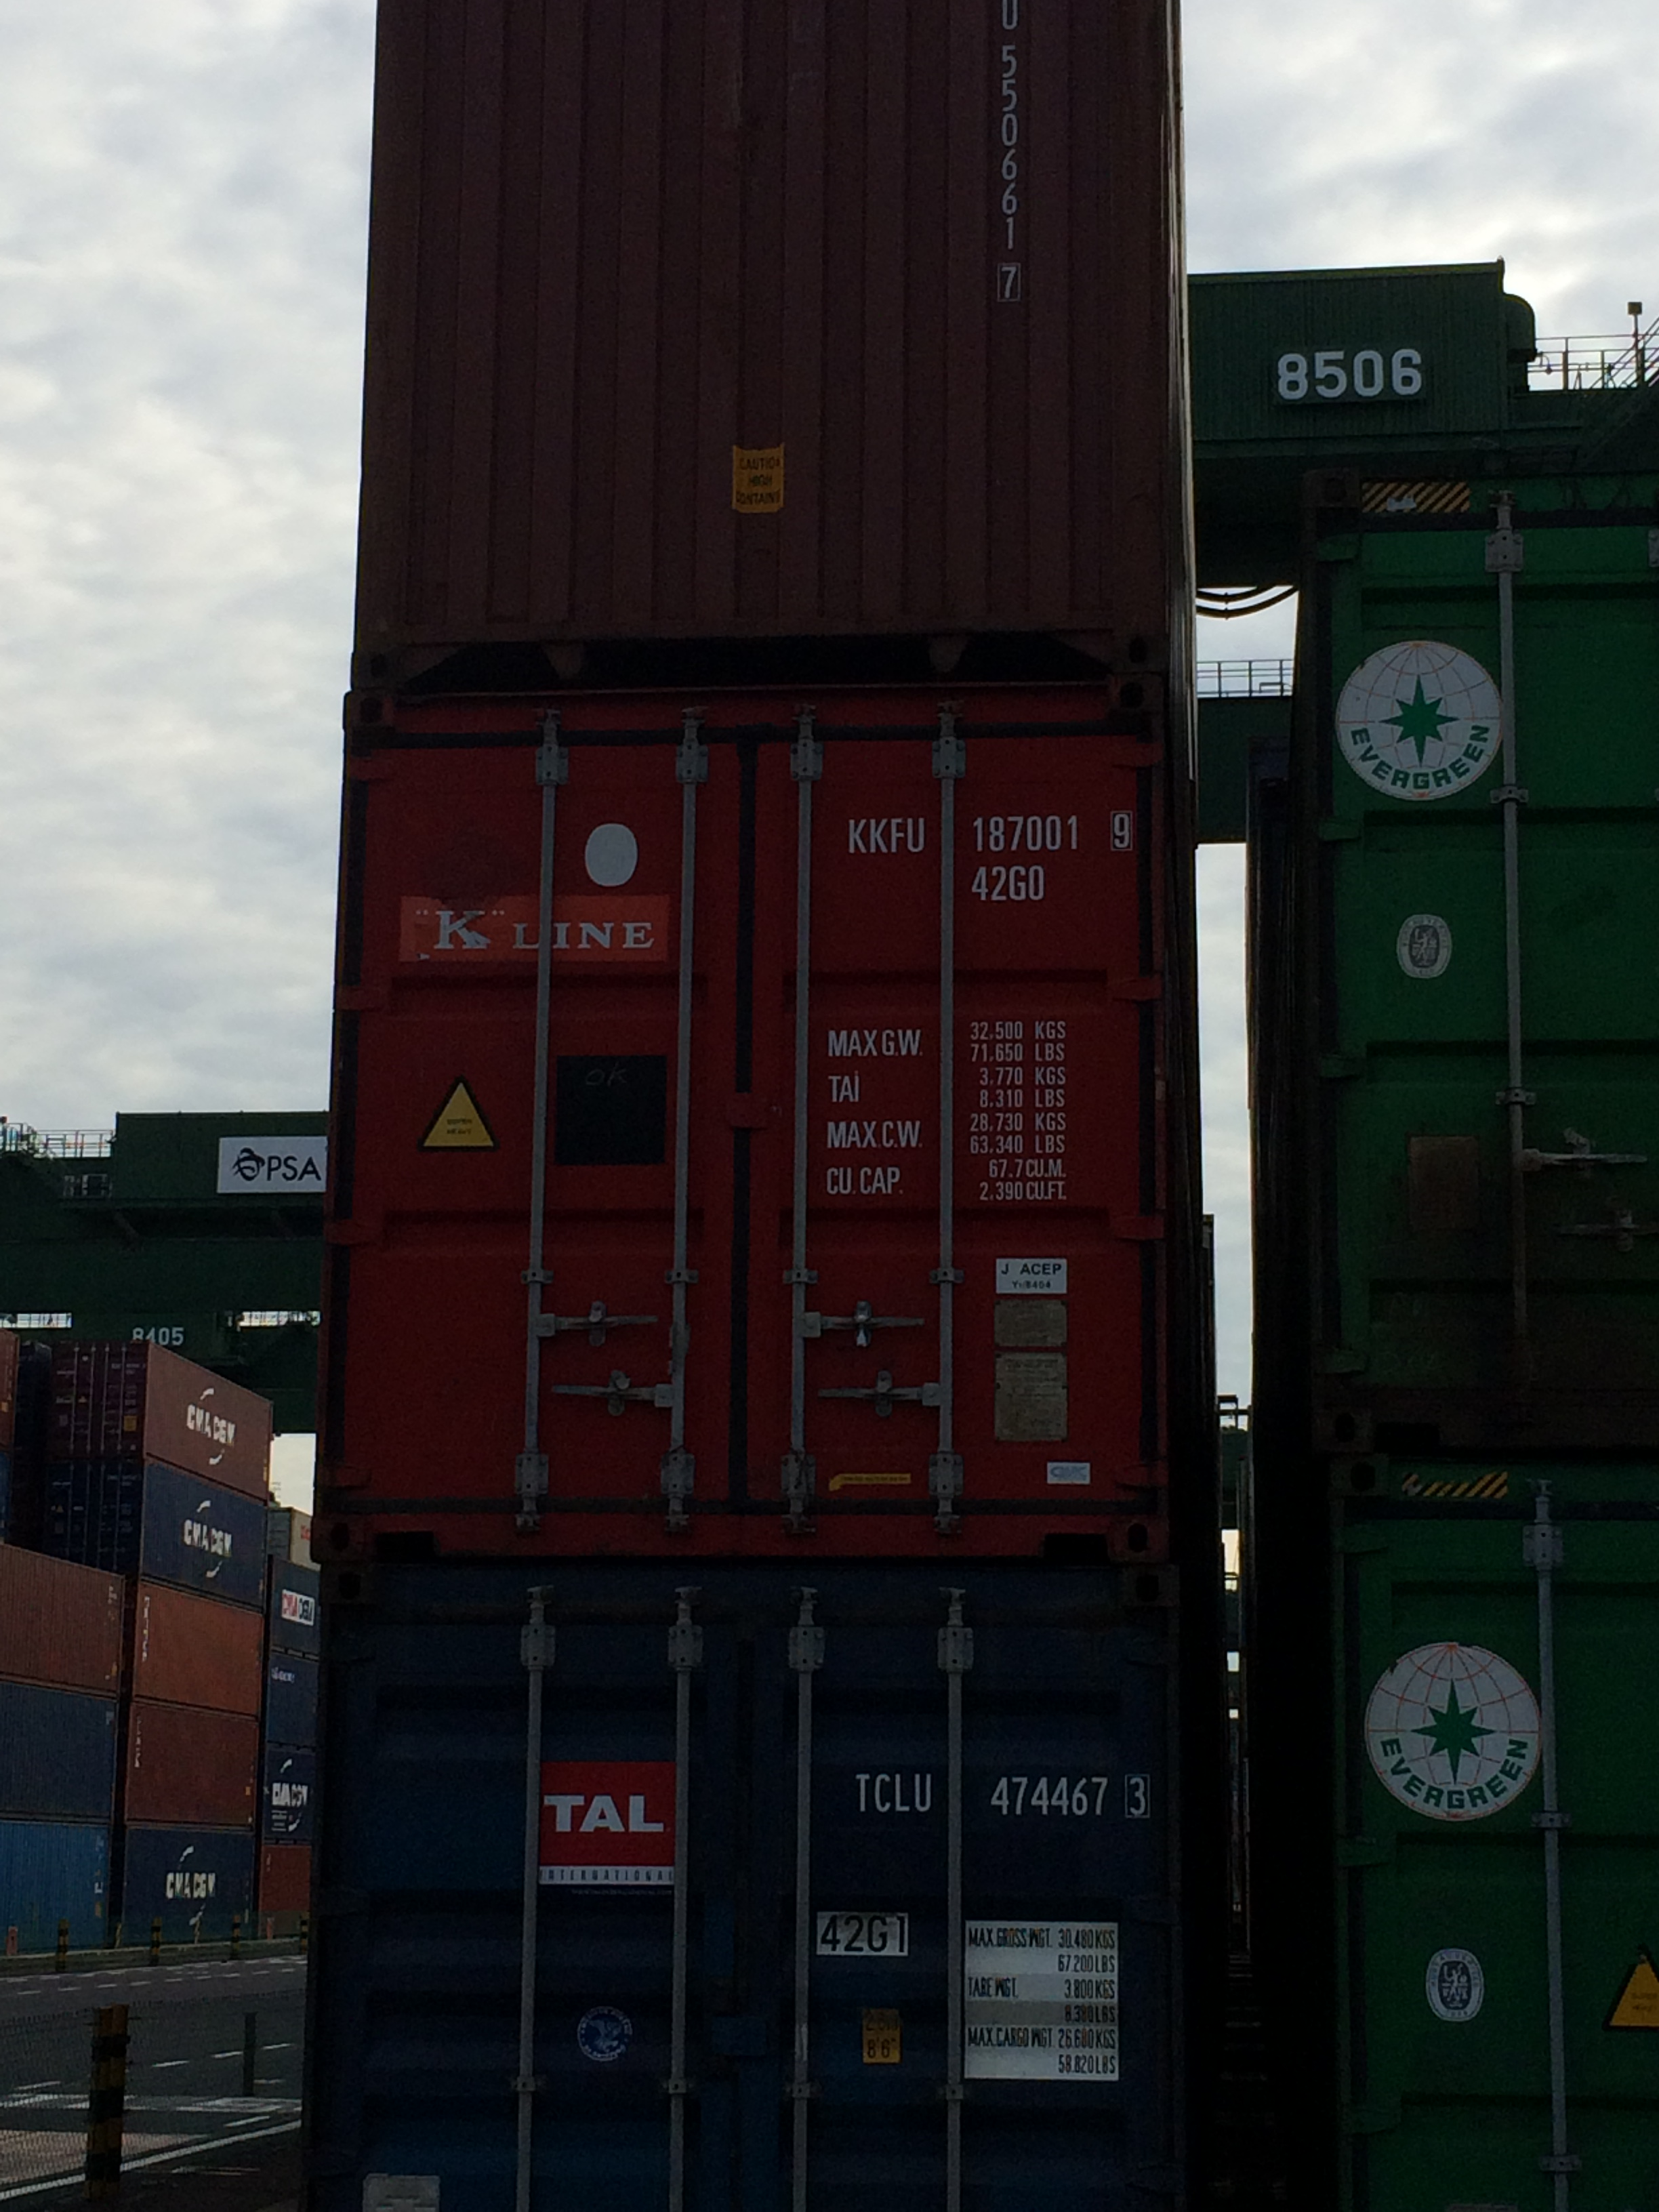container_door: (345, 693, 1197, 1569), (308, 1578, 1220, 2212)
container_no_door: (352, 0, 1187, 688)
